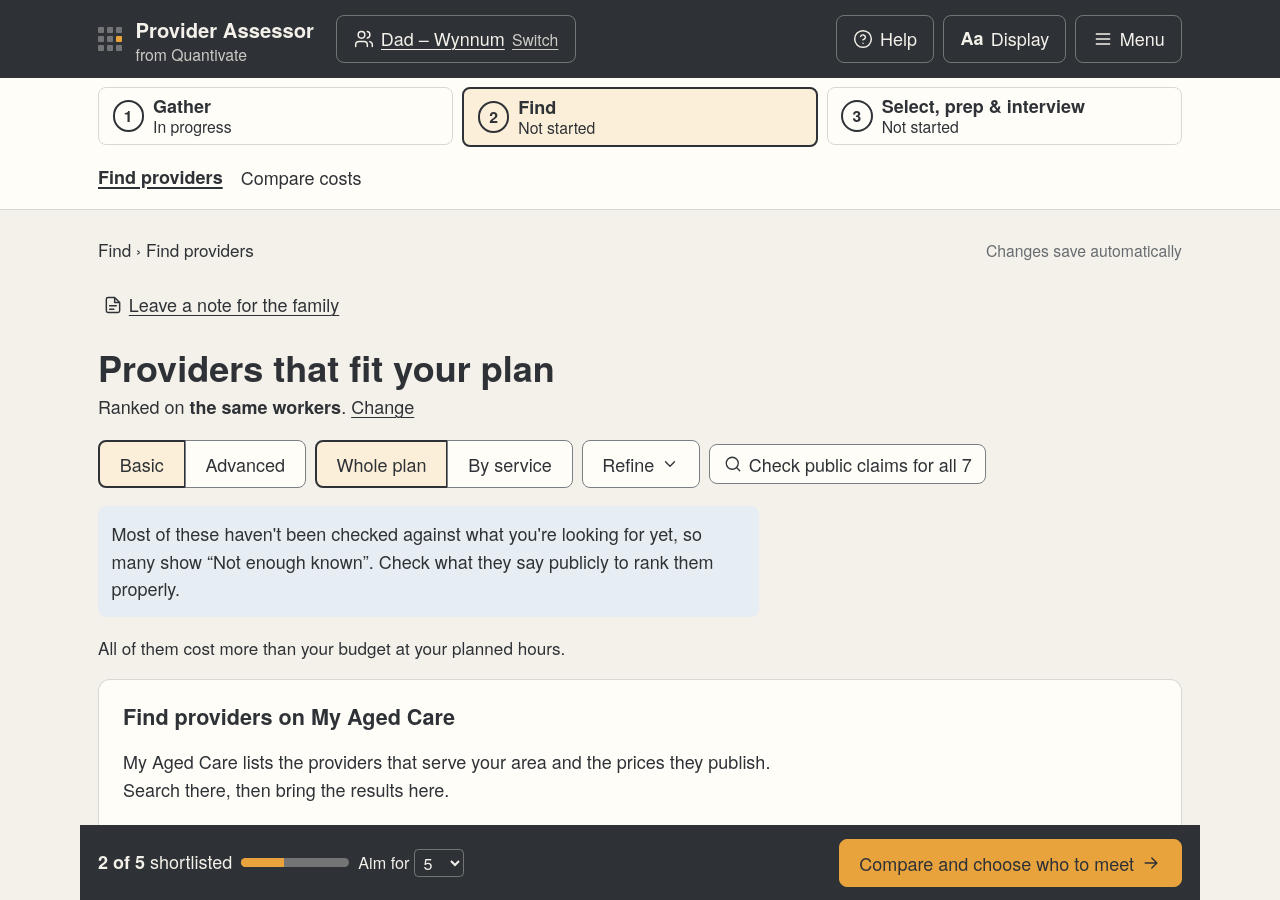
Find: shortlisting › shows progress toward the target, and the target can change
The width and height of the screenshot is (1280, 900).
Expected: the navigation bar named "Steps" is shown, [0,78,1279,210]
Expected: the text "2 of 5 shortlisted" is shown, [98,848,232,877]
Select "2" in the dropdown labelled "Aim for" at (439,862), box [414,848,464,876]
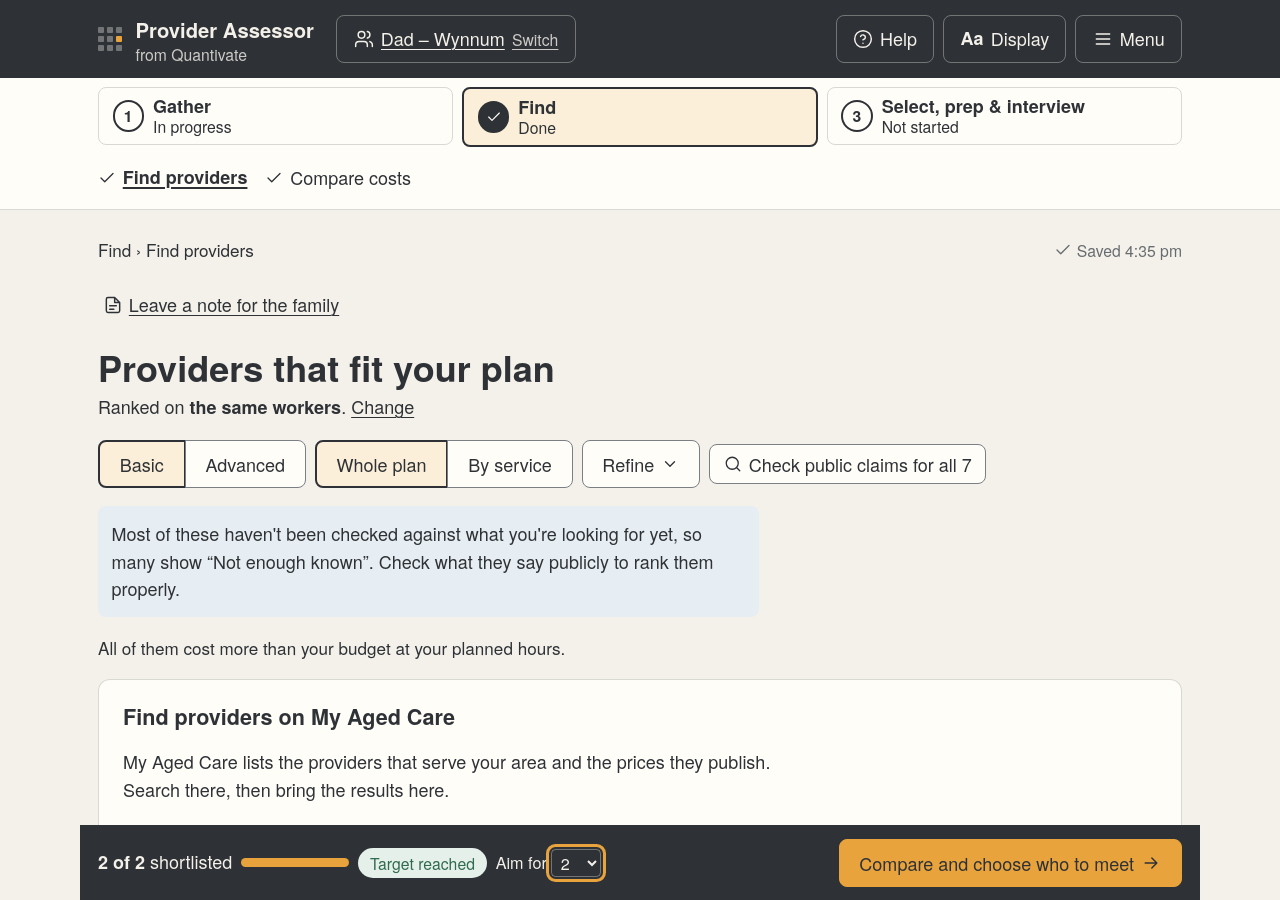
Expected: the text "Target reached" is shown, [358,848,487,878]
